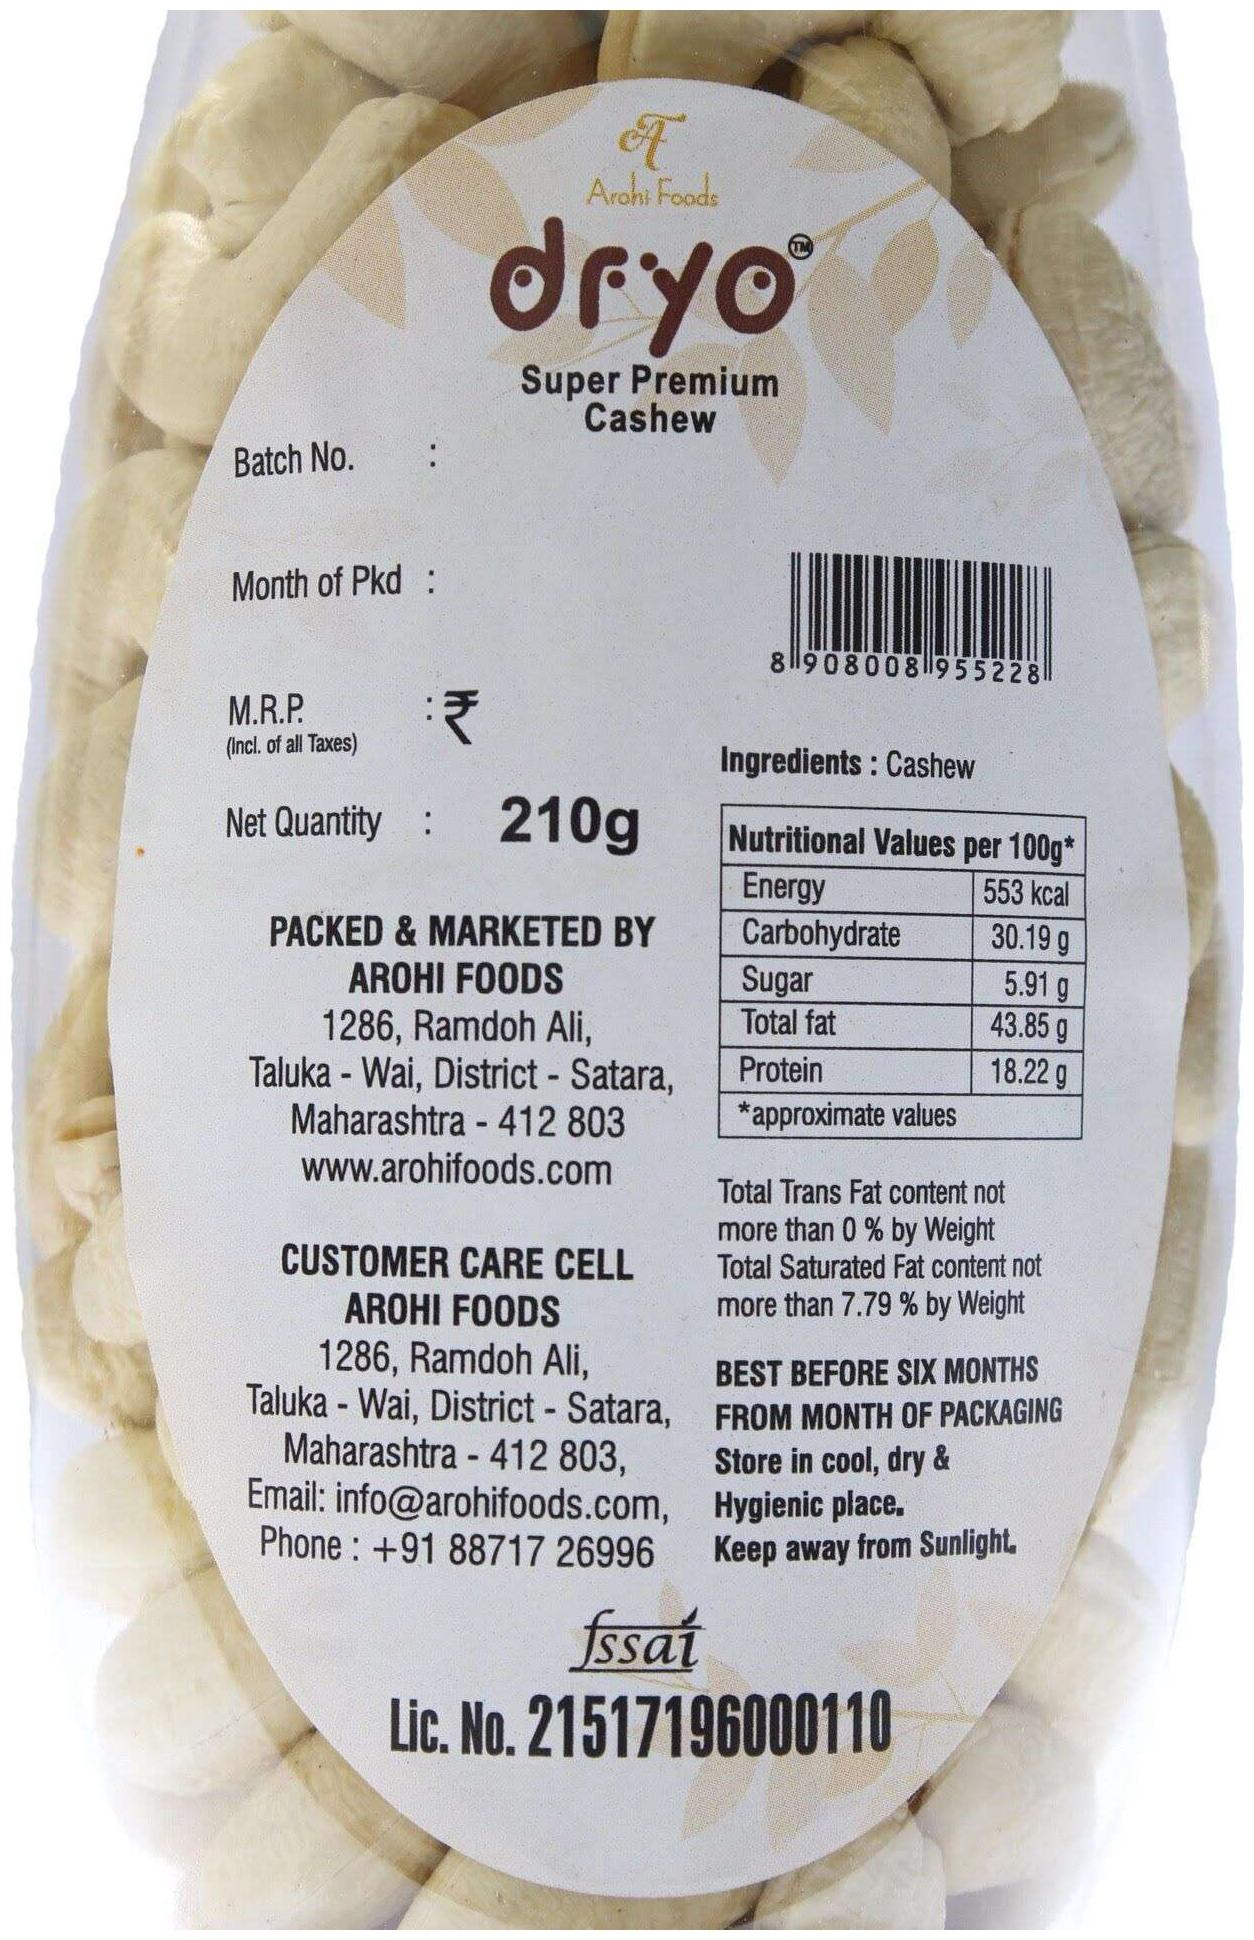fsaai: (568, 1608, 703, 1676)
